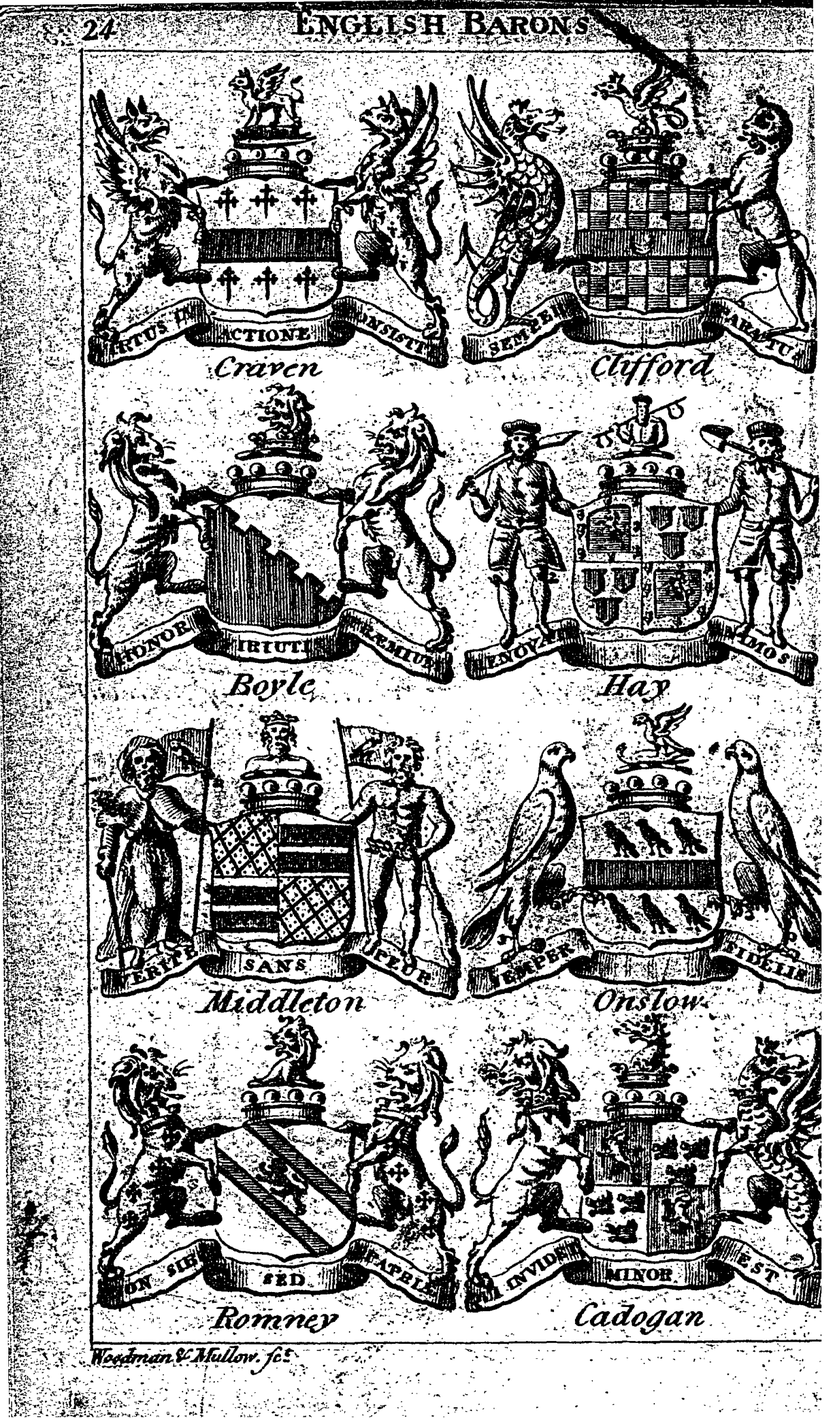coat_of_arms: (83, 61, 453, 396), (91, 700, 468, 1023), (453, 66, 815, 392), (471, 1009, 835, 1330), (89, 393, 465, 700), (93, 1021, 465, 1327), (463, 390, 817, 708), (468, 703, 824, 1016)
